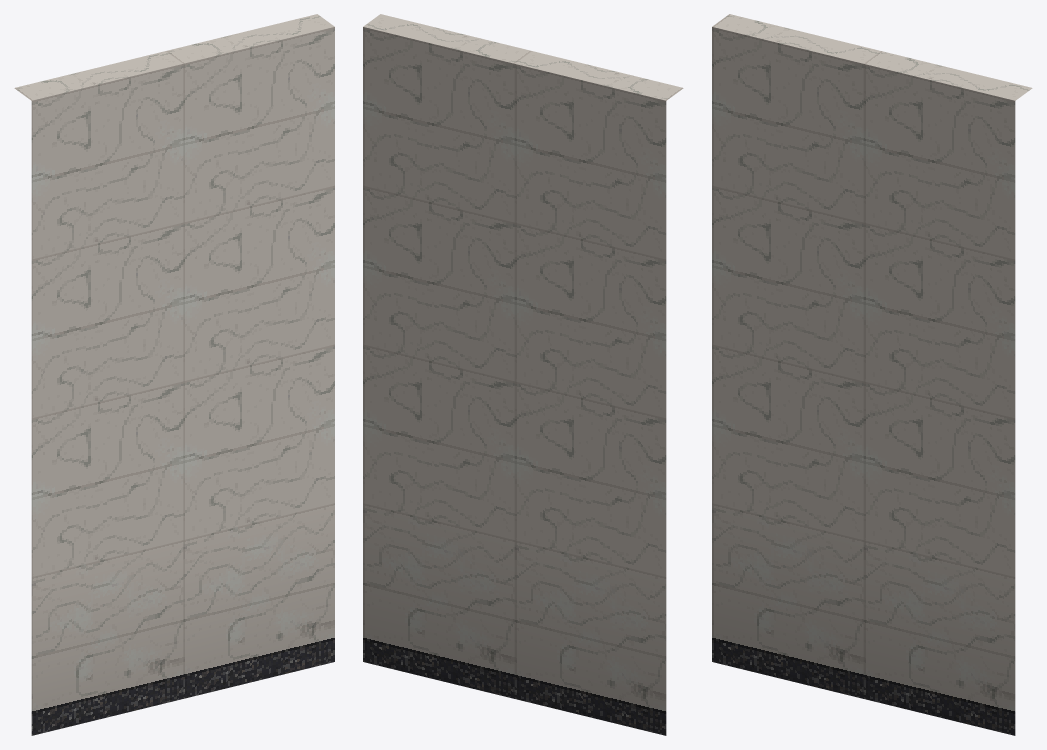
The model's file is wall_hall.glb.
3 views of the same model, side by side, from view 1: azimuth 30°, elevation 25°; view 2: azimuth 150°, elevation 25°; view 3: azimuth 330°, elevation 25° (orthographic).
Visible parts, largest first — view 1: wall_hall; view 2: wall_hall; view 3: wall_hall.
Part boxes in pixels (bbox=[...]): wall_hall: bbox=[14, 14, 334, 735]; wall_hall: bbox=[363, 14, 683, 735]; wall_hall: bbox=[712, 14, 1032, 735].
Size of the model in its own units: 2 by 4 by 0.2.
Materials: 1 (1 with a texture image).
